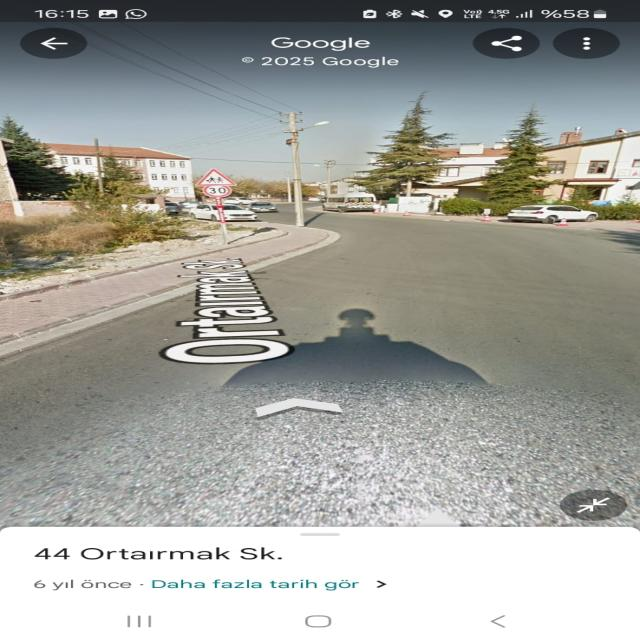okul_gecidi: (196, 168, 236, 186)
